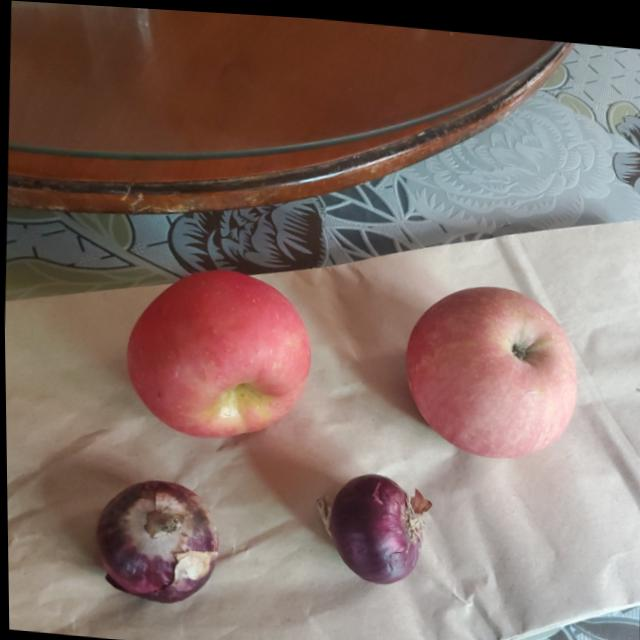apple: (118, 254, 310, 440), (395, 266, 579, 455)
onion: (90, 467, 219, 605), (325, 461, 419, 580)
